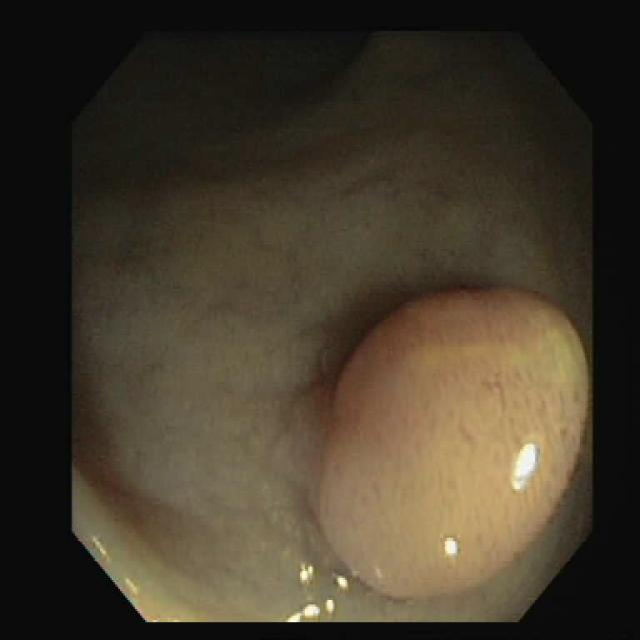tumor: (308, 287, 590, 618)
